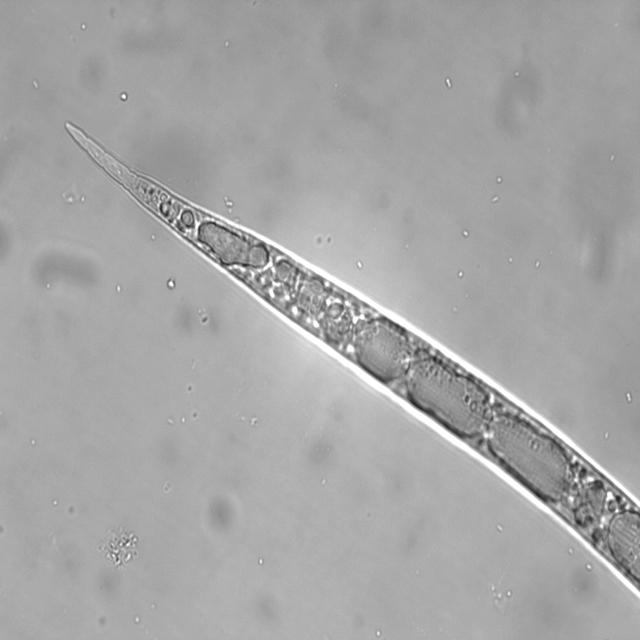Meloidogyne: (53, 108, 640, 594)
